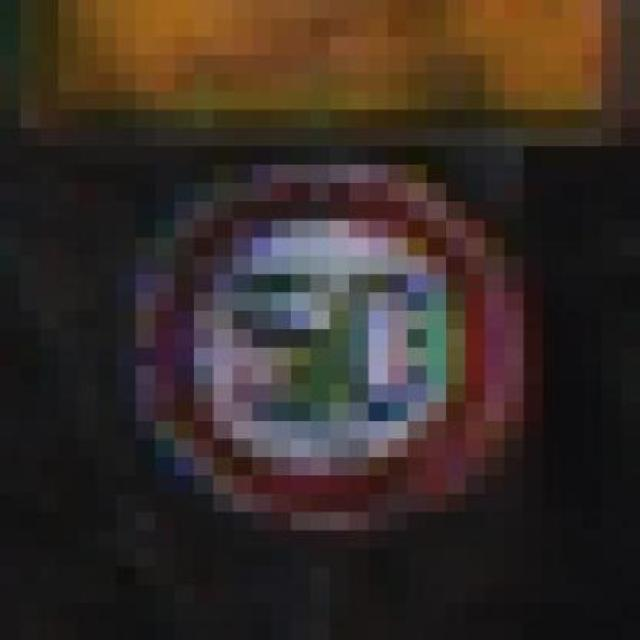forb_speed_over_50: (153, 174, 512, 517)
